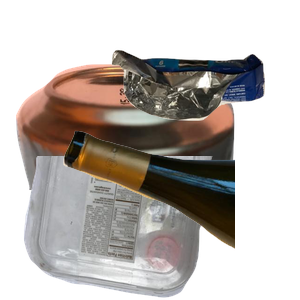glass: (60, 128, 300, 300)
metal: (13, 61, 240, 241)
plastic: (21, 156, 226, 300)
trash: (109, 47, 300, 160)
